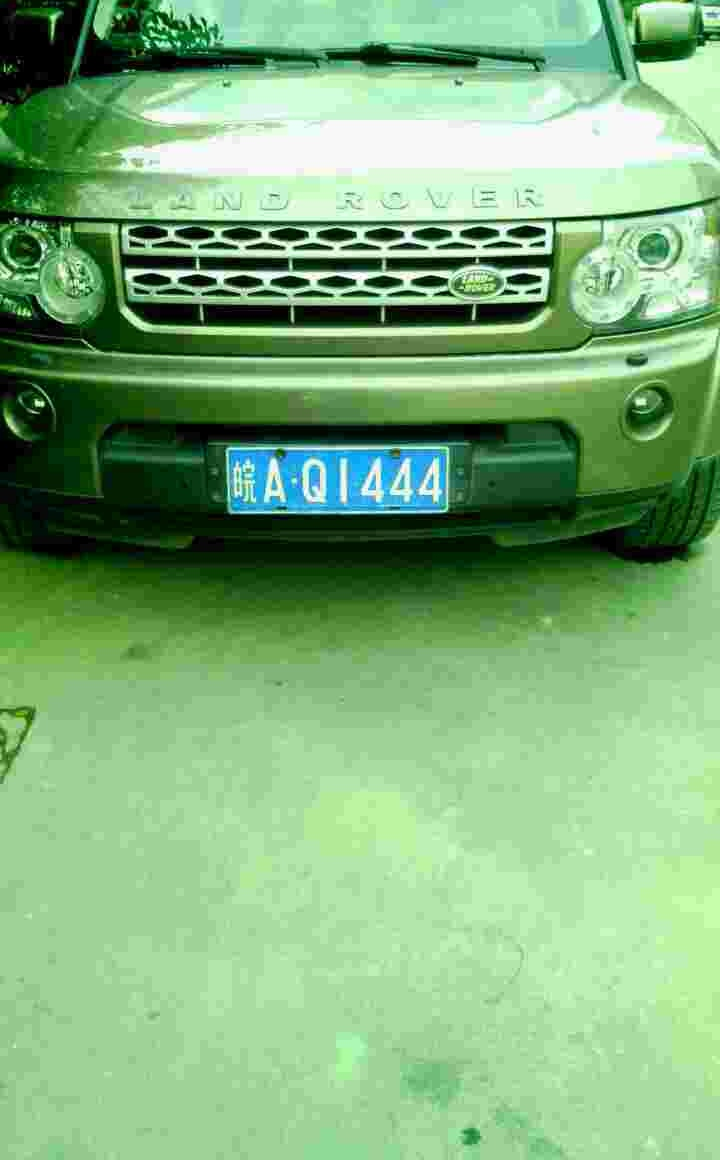license_plate: (224, 441, 470, 509)
